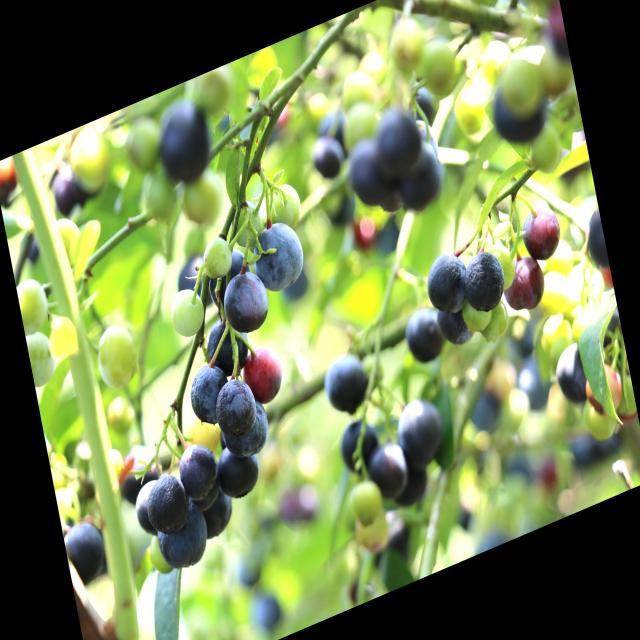blueberry: (248, 202, 316, 303), (152, 91, 215, 190), (152, 495, 212, 581), (392, 388, 449, 472), (221, 260, 275, 343), (420, 244, 474, 323), (369, 99, 423, 176), (459, 243, 512, 320), (222, 400, 272, 468), (212, 373, 260, 443), (323, 346, 367, 422), (400, 298, 446, 370), (143, 462, 186, 536), (214, 434, 260, 502), (368, 434, 413, 502), (62, 514, 107, 580), (188, 363, 230, 428), (305, 132, 347, 194), (196, 478, 236, 542), (180, 434, 220, 494)
blueberry-halfripe: (239, 339, 289, 412), (498, 251, 550, 319), (516, 200, 566, 269), (577, 358, 628, 422)
blueberry-unripe: (89, 317, 140, 397), (178, 166, 230, 238), (494, 49, 544, 122), (263, 172, 309, 237), (15, 270, 54, 342), (416, 29, 459, 94), (166, 280, 208, 343), (450, 78, 490, 142), (578, 390, 621, 447), (386, 15, 426, 76), (25, 325, 59, 392), (225, 196, 264, 253), (339, 100, 378, 153), (50, 210, 83, 268), (199, 231, 236, 282), (346, 478, 384, 527), (478, 297, 512, 346), (460, 296, 493, 336)
